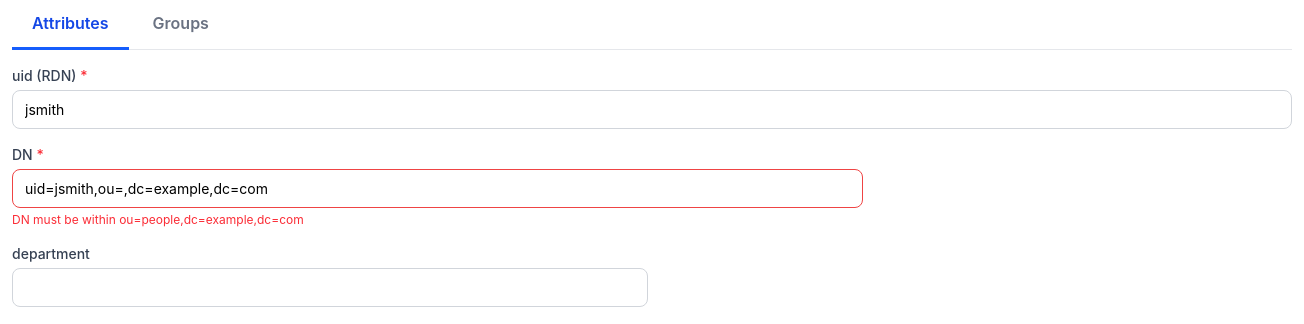
Test: UserForm editable DN (create mode) › re-derives the DN when a plain templated field changes
Type "eng" into the field labelled "department". click: x=330, y=288
box: [12, 268, 648, 307]
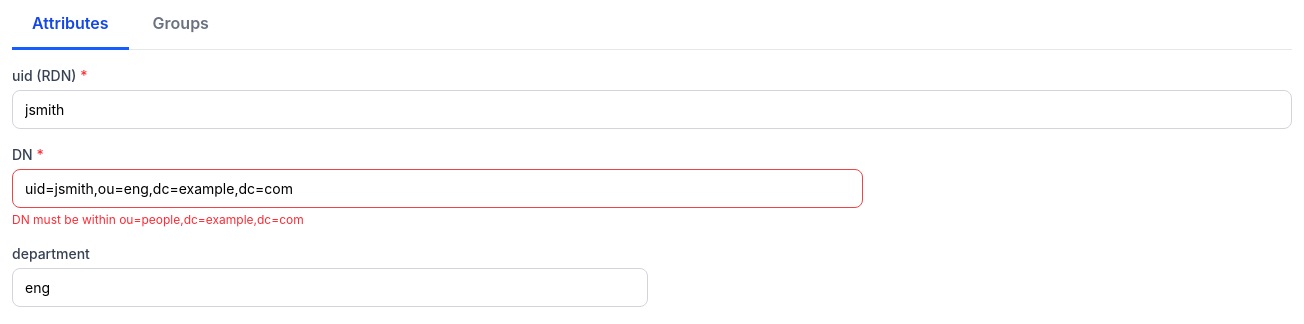
Check: the field labelled "DN *" holds "uid=jsmith,ou=eng,dc=example,dc=com", box [12, 169, 863, 208]
